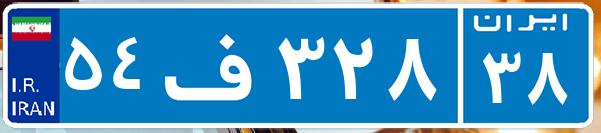2: (330, 28, 385, 110)
3: (273, 28, 330, 110), (475, 38, 525, 113)
4: (110, 28, 158, 105)
5: (57, 26, 110, 107)
8: (385, 28, 445, 110), (525, 38, 570, 115)
ف: (158, 15, 273, 115)
